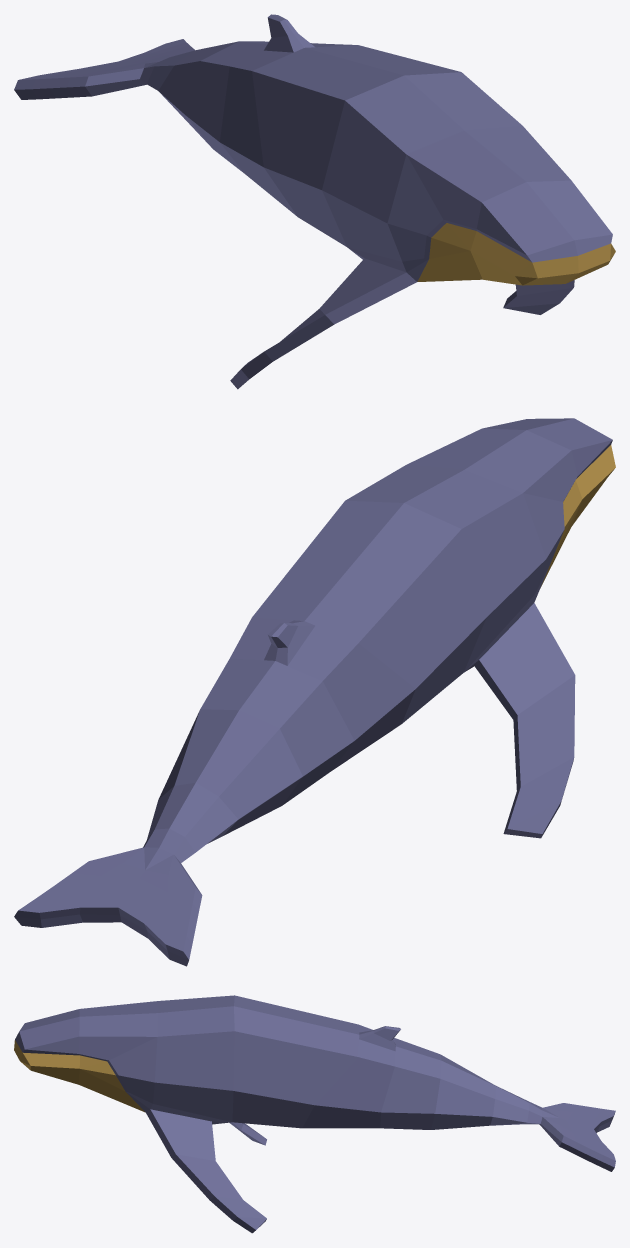
The model's file is whale.glb.
3 renders of one model, top to bottom at view 1: azimuth 30°, elevation 25°; view 2: azimuth 150°, elevation 25°; view 3: azimuth 270°, elevation 25°, orthographic. The views are drawn at different scales.
Visible parts, largest first — view 1: Whale_Cylinder; view 2: Whale_Cylinder; view 3: Whale_Cylinder.
Part boxes in pixels (x1=…): Whale_Cylinder: x1=14, y1=14, x2=615, y2=389; Whale_Cylinder: x1=14, y1=418, x2=615, y2=966; Whale_Cylinder: x1=14, y1=995, x2=615, y2=1233.
Bounding box in the file's own units: 3.89 × 3.34 × 10.05.
